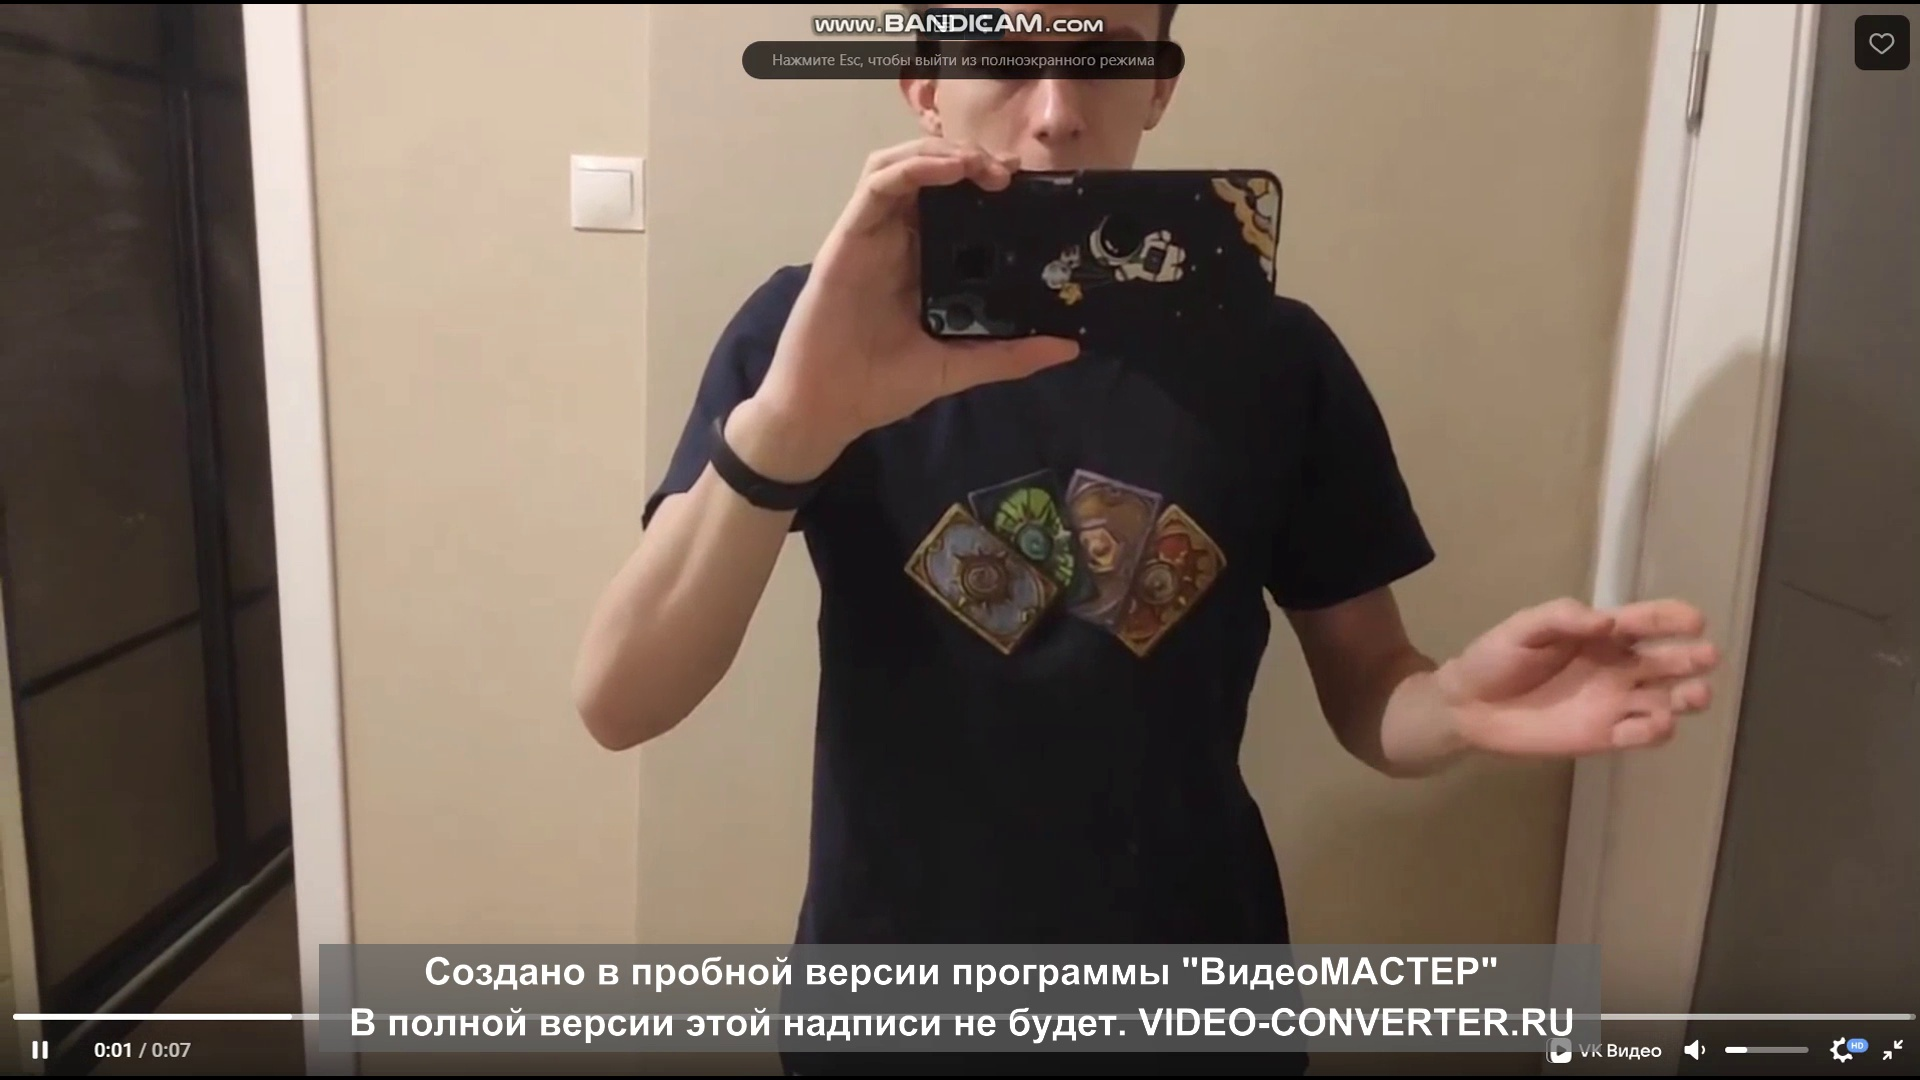Ладонь: (1466, 595, 1724, 756)
